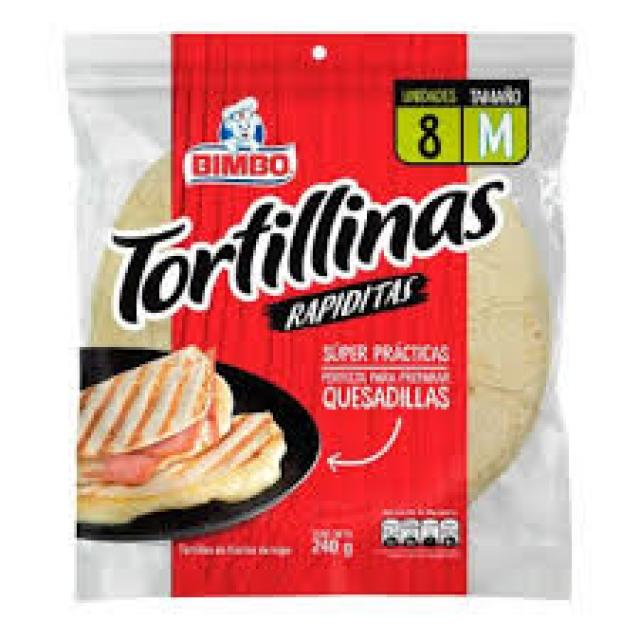Paquete: (70, 28, 577, 595)
